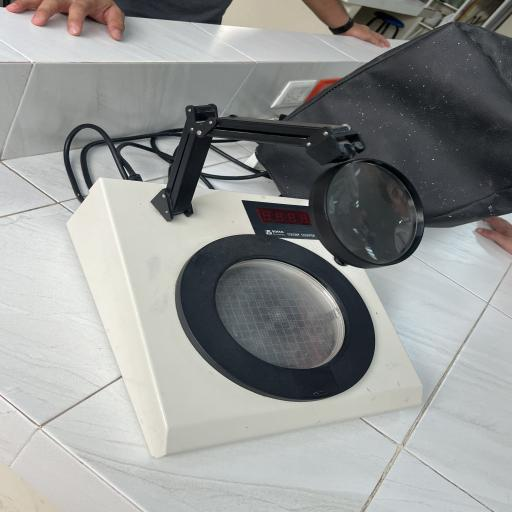Contador_Colonias_CC1: (62, 92, 438, 464)
